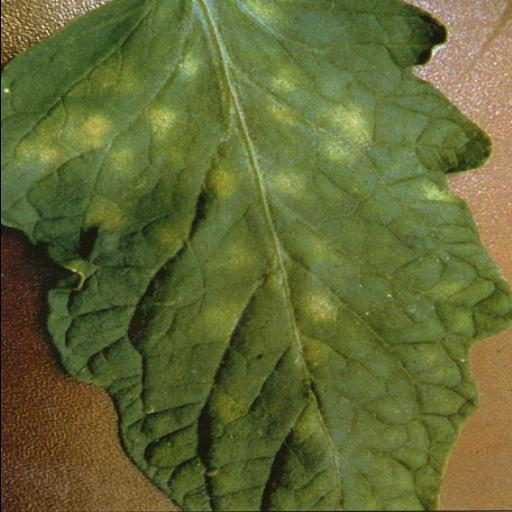disease_tomato: (0, 1, 508, 507)
